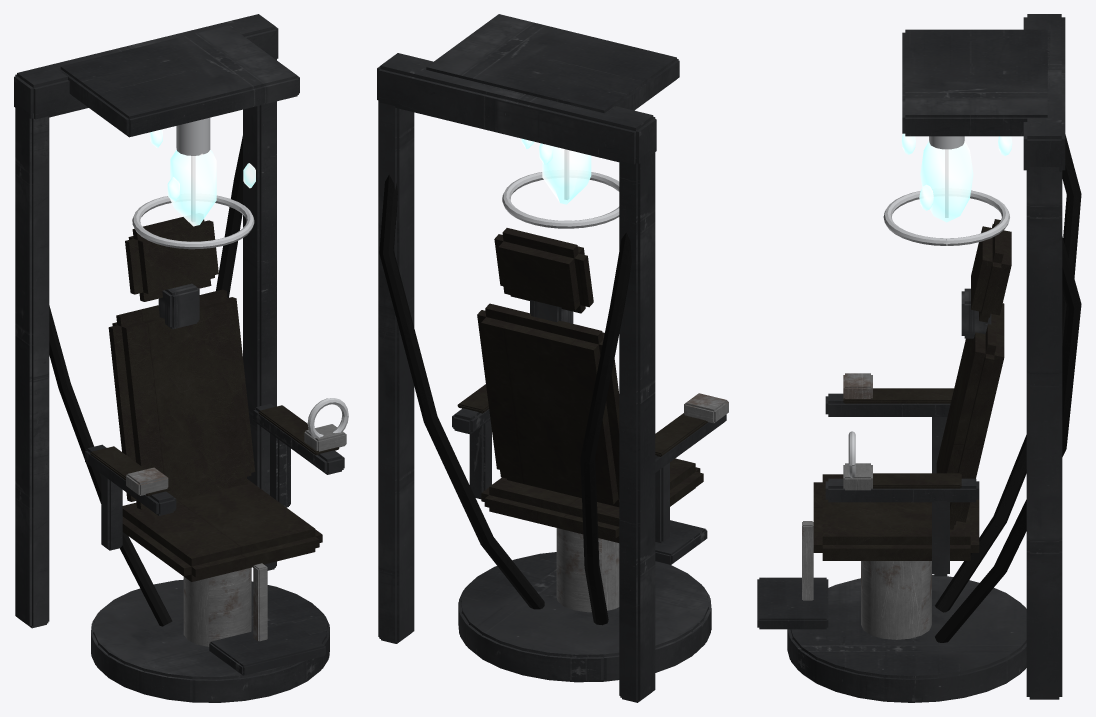
The model's file is immersion_chair.gltf.
3 renders of one model, left to right at view 1: azimuth 30°, elevation 25°; view 2: azimuth 150°, elevation 25°; view 3: azimuth 270°, elevation 25°, orthographic. The views are drawn at different scales.
Visible parts, largest first — view 1: Body, Crystal, Hoop1, Hoop2; view 2: Body, Crystal, Hoop1; view 3: Body, Crystal, Hoop1.
Boxes of the visible parts, x1,y1,x2,y2 form: Body: (14, 14, 346, 702); Crystal: (150, 129, 255, 226); Hoop1: (132, 156, 254, 249); Hoop2: (307, 398, 348, 438); Body: (377, 14, 728, 702); Crystal: (521, 138, 591, 204); Hoop1: (502, 149, 619, 228); Body: (757, 14, 1081, 702); Crystal: (901, 133, 1012, 222); Hoop1: (883, 149, 1009, 245).
Size of the model in its own units: 1 by 2.16 by 1.09.
7 materials, 5 textured.
